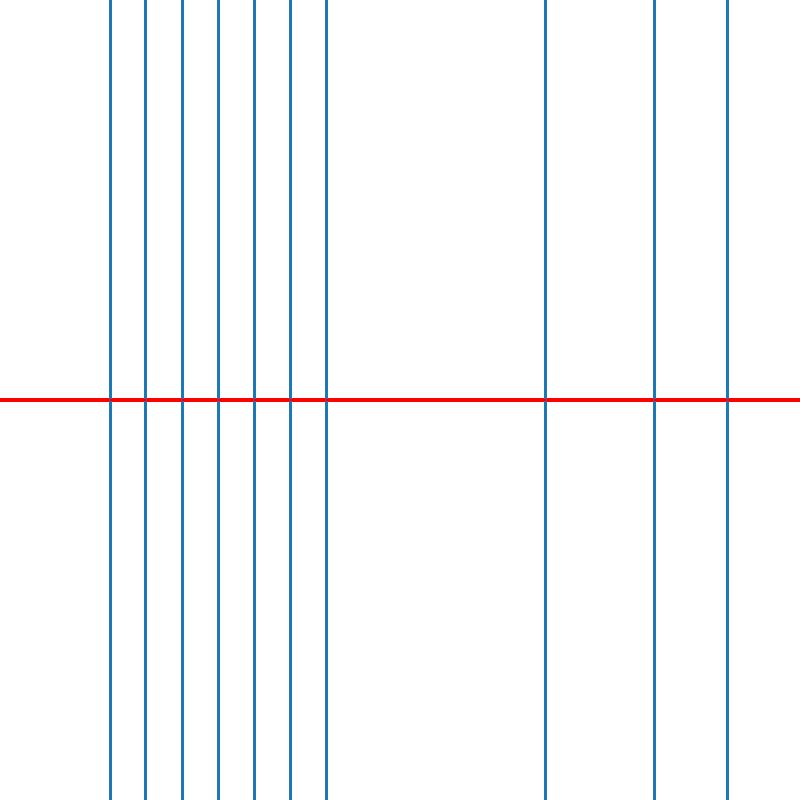root: (141, 396, 149, 404), (541, 396, 549, 404), (250, 396, 258, 404), (650, 396, 658, 404), (323, 396, 330, 404), (178, 396, 185, 404), (105, 396, 112, 404), (723, 396, 730, 404), (287, 396, 294, 404), (214, 396, 221, 404)
